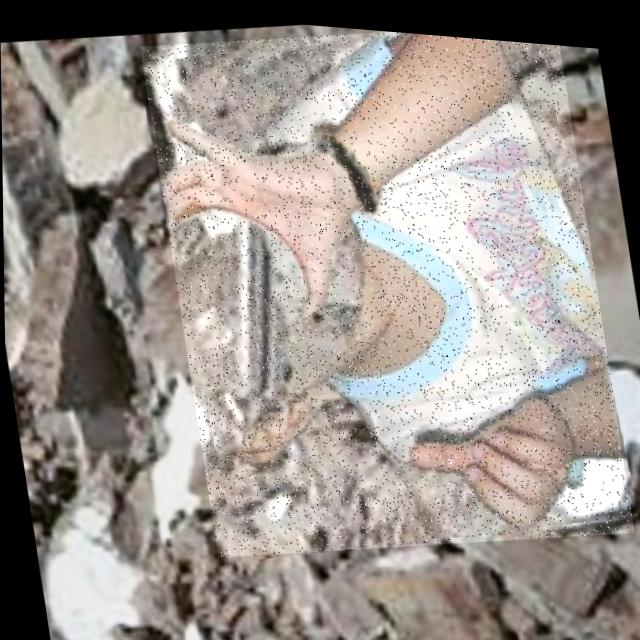Person in Rubble: (139, 9, 633, 579)
